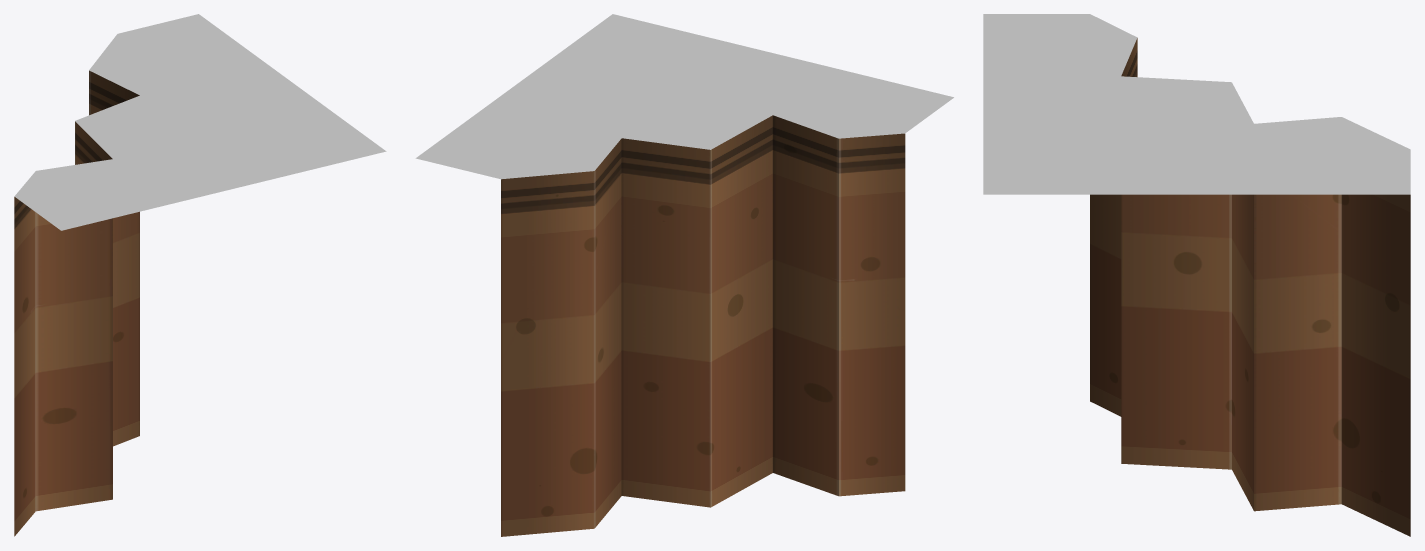
The model's file is Earthquake_Floor_270.fbx.
The picture shows the model from 3 angles, left to right: view 1: azimuth 30°, elevation 25°; view 2: azimuth 150°, elevation 25°; view 3: azimuth 270°, elevation 25°; orthographic projection. The views are drawn at different scales.
Parts seen in each view (by area): view 1: Earthquake_Floor_270; view 2: Earthquake_Floor_270; view 3: Earthquake_Floor_270.
Part boxes in pixels (box(x1,y1,x2,y2)): Earthquake_Floor_270: box(14, 14, 386, 536); Earthquake_Floor_270: box(415, 14, 953, 536); Earthquake_Floor_270: box(983, 14, 1410, 536).
Size of the model in its own units: 0.5 by 0.5 by 0.5.
